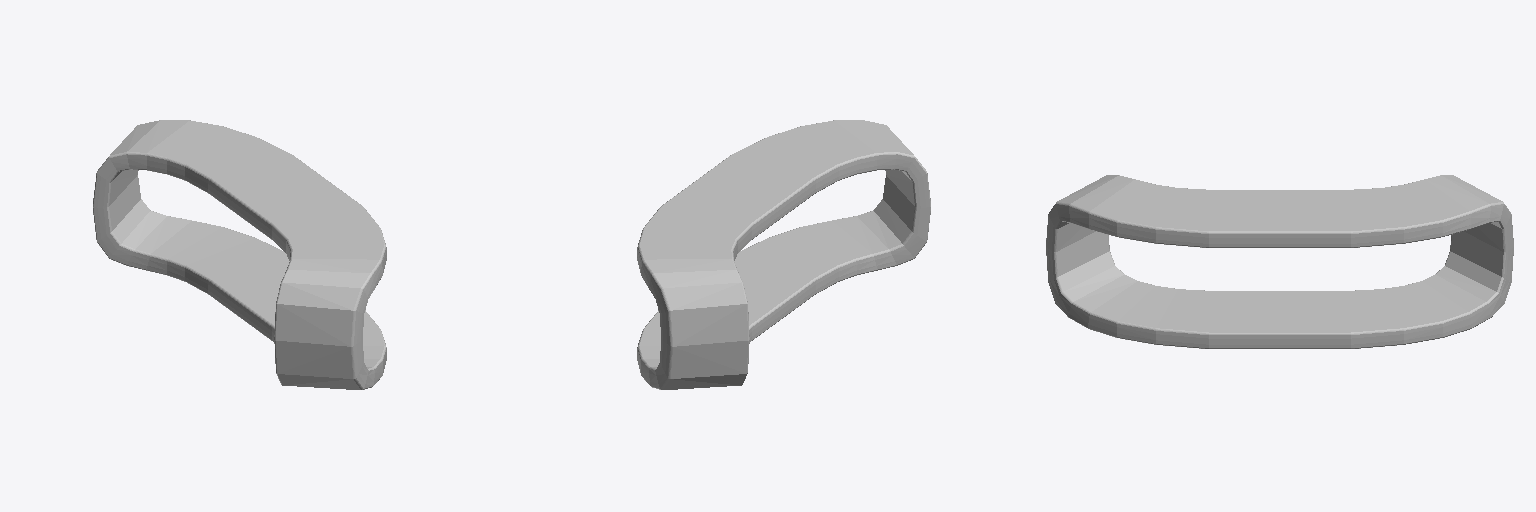
Rendered from CP3_TableMesh_04.obj.
3 renders of one model, left to right at view 1: azimuth 30°, elevation 25°; view 2: azimuth 150°, elevation 25°; view 3: azimuth 270°, elevation 25°, orthographic.
Parts seen in each view (by area): view 1: CP3_TableMesh2:UnrealEdObject; view 2: CP3_TableMesh2:UnrealEdObject; view 3: CP3_TableMesh2:UnrealEdObject.
Boxes of the visible parts, box(x1,y1,x2,y2) form: CP3_TableMesh2:UnrealEdObject: box(93, 120, 386, 389); CP3_TableMesh2:UnrealEdObject: box(637, 120, 930, 389); CP3_TableMesh2:UnrealEdObject: box(1046, 175, 1513, 348).
Size of the model in its own units: 141 by 110 by 396.